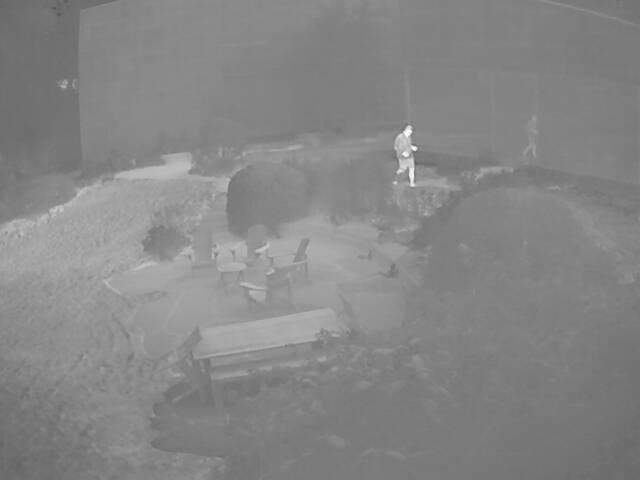person: (390, 126, 419, 192)
